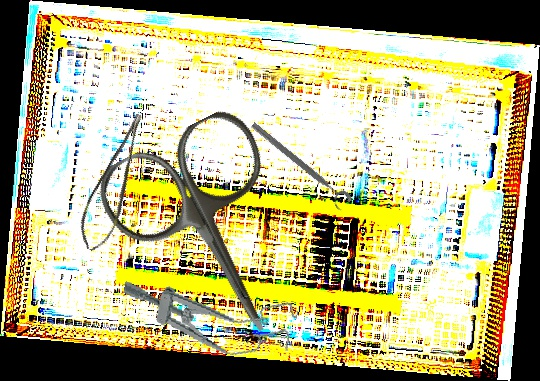Fixation Ring: (244, 119, 354, 213)
Iris Scissors: (87, 101, 335, 370)
Micro Scissor: (67, 111, 167, 256)
Speculum: (115, 268, 300, 367)
